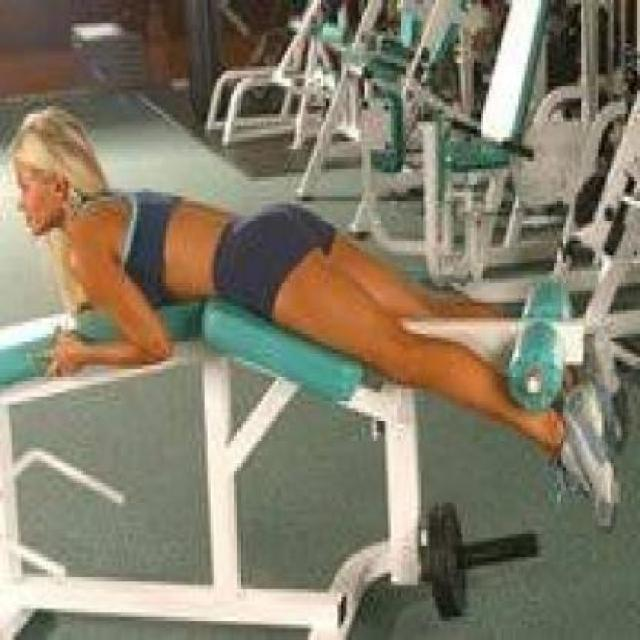reg curl machine: (0, 94, 615, 640)
